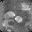people: (2, 19, 14, 30), (4, 11, 15, 18), (15, 16, 23, 23)
